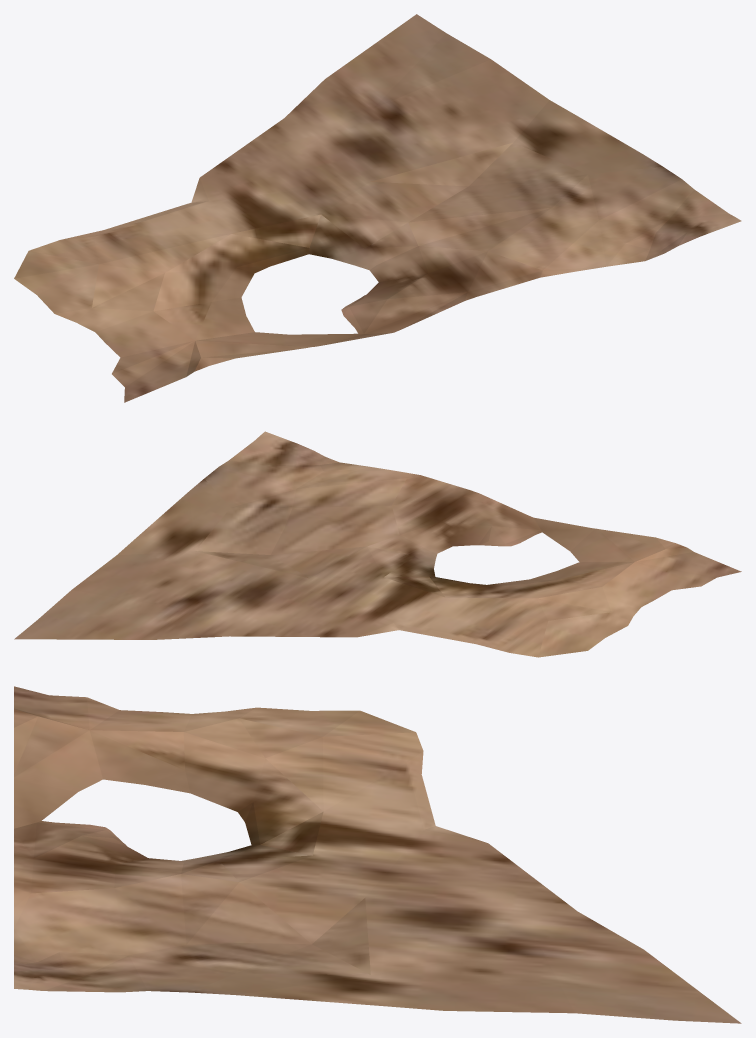
3 renders of one model, top to bottom at view 1: azimuth 30°, elevation 25°; view 2: azimuth 150°, elevation 25°; view 3: azimuth 270°, elevation 25°, orthographic. The views are drawn at different scales.
Bounding box in the file's own units: 1.3 × 0.0624 × 1.18.
1 material, 1 textured.
